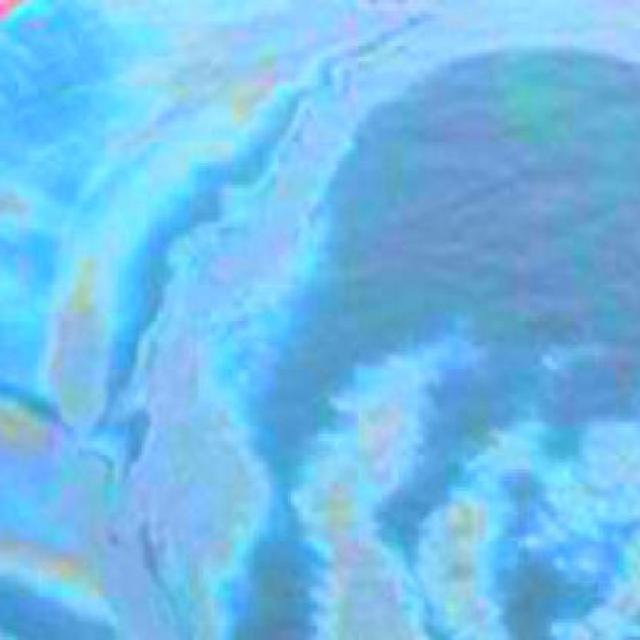sheen: (0, 3, 638, 632), (295, 352, 527, 634), (529, 427, 640, 640)
